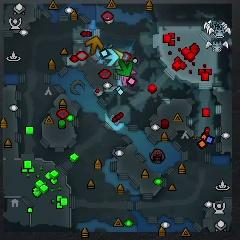x1: (118, 67, 137, 90)
x2: (106, 46, 124, 60)
x3: (101, 48, 119, 67)
x4: (115, 60, 135, 76)
x5: (85, 35, 104, 56)
